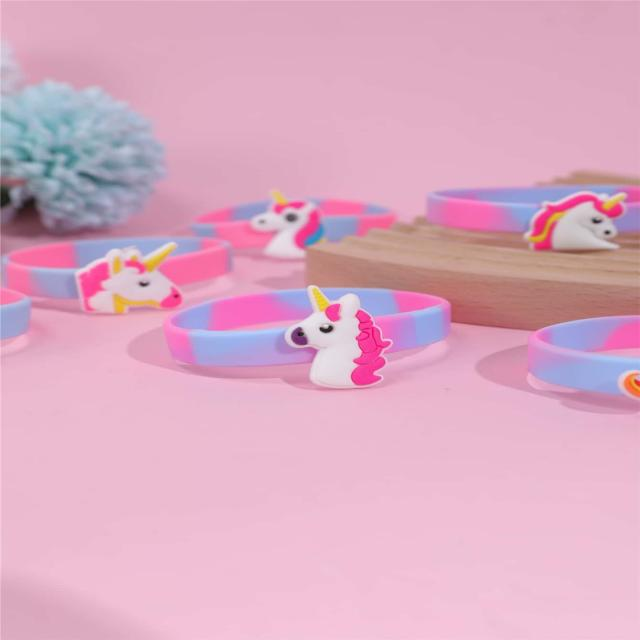bracelet: (72, 279, 499, 428)
